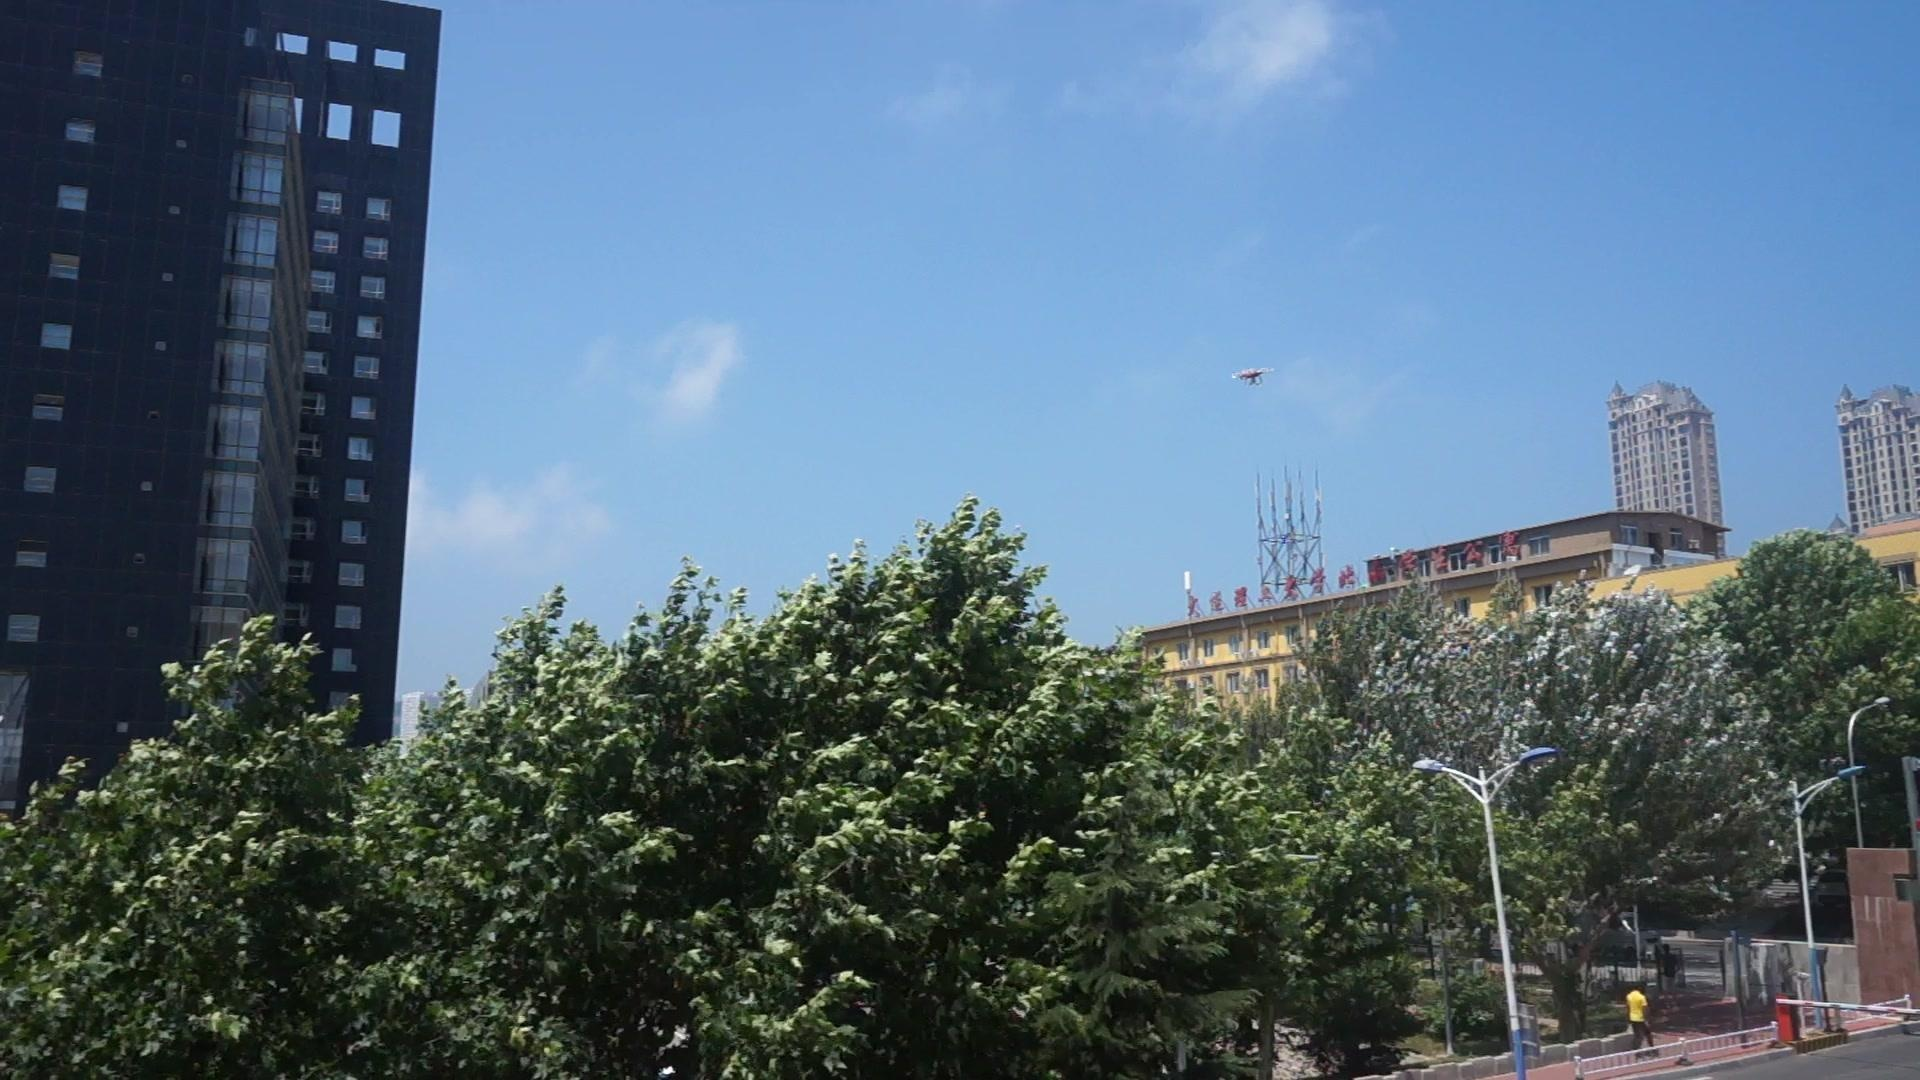UAV: (1233, 369, 1278, 389)
